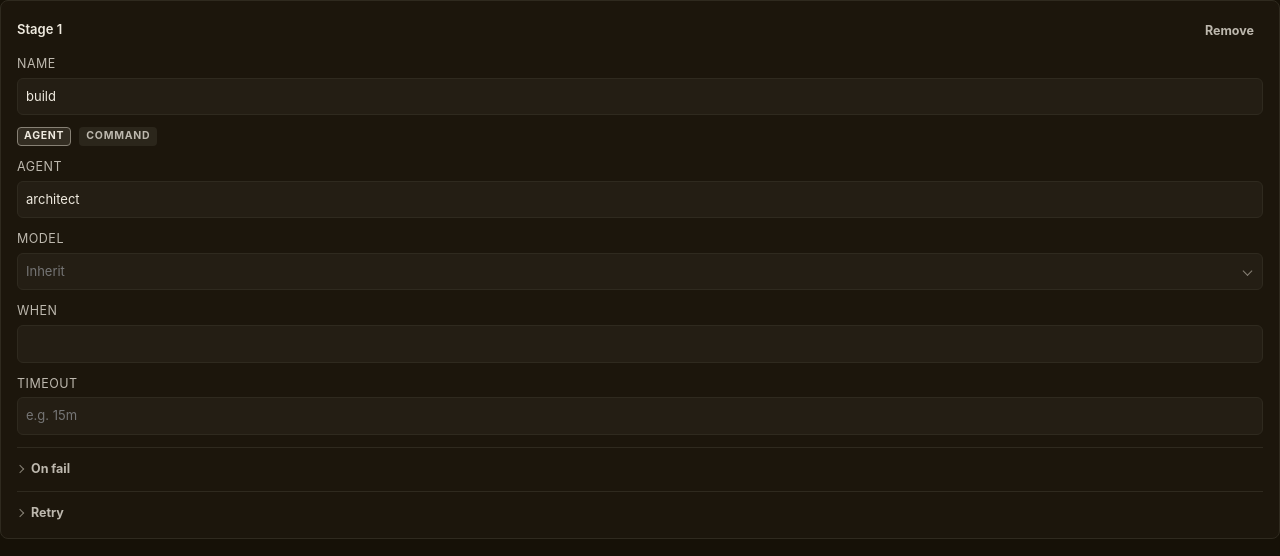
StageCard › shows model suggestions from knownModelIds on focus
Focus the dropdown labelled "Model". click: (640, 272)
box: top-left (17, 253), bottom-right (1263, 290)
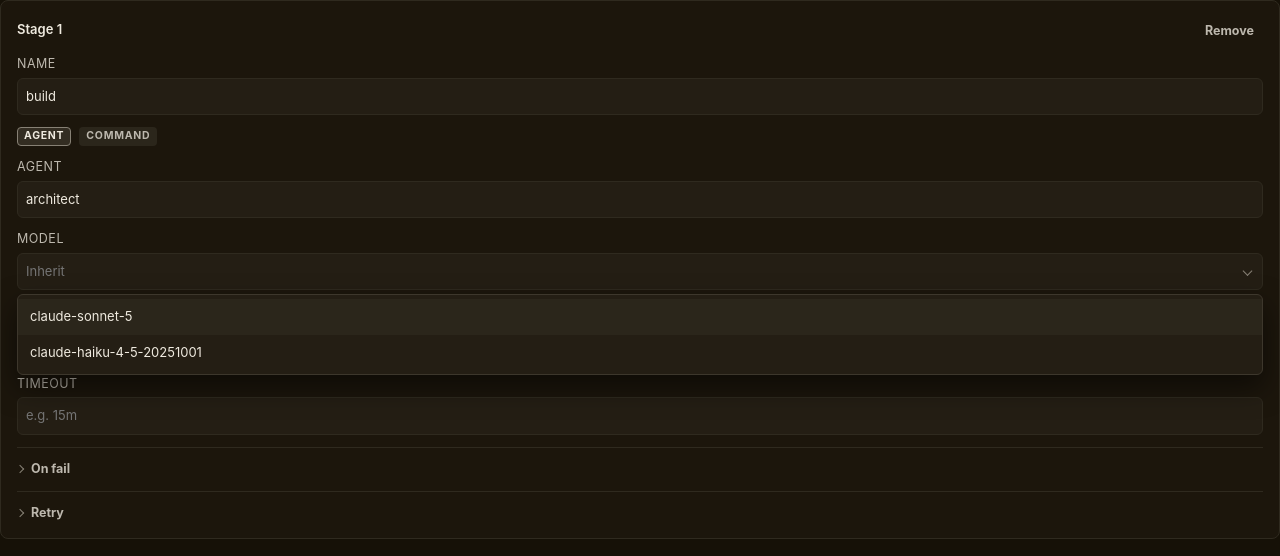
Check: the options read "claude-sonnet-5", "claude-haiku-4-5-20251001", in this order, box top-left (18, 299), bottom-right (1262, 335); top-left (30, 344), bottom-right (202, 360)
